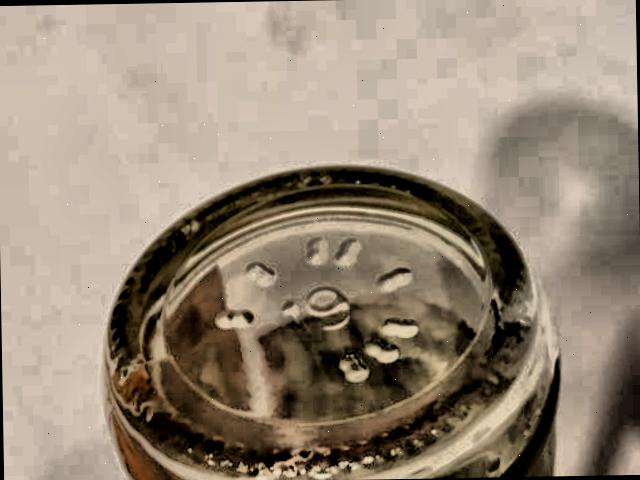Bottles: (89, 142, 594, 480)
